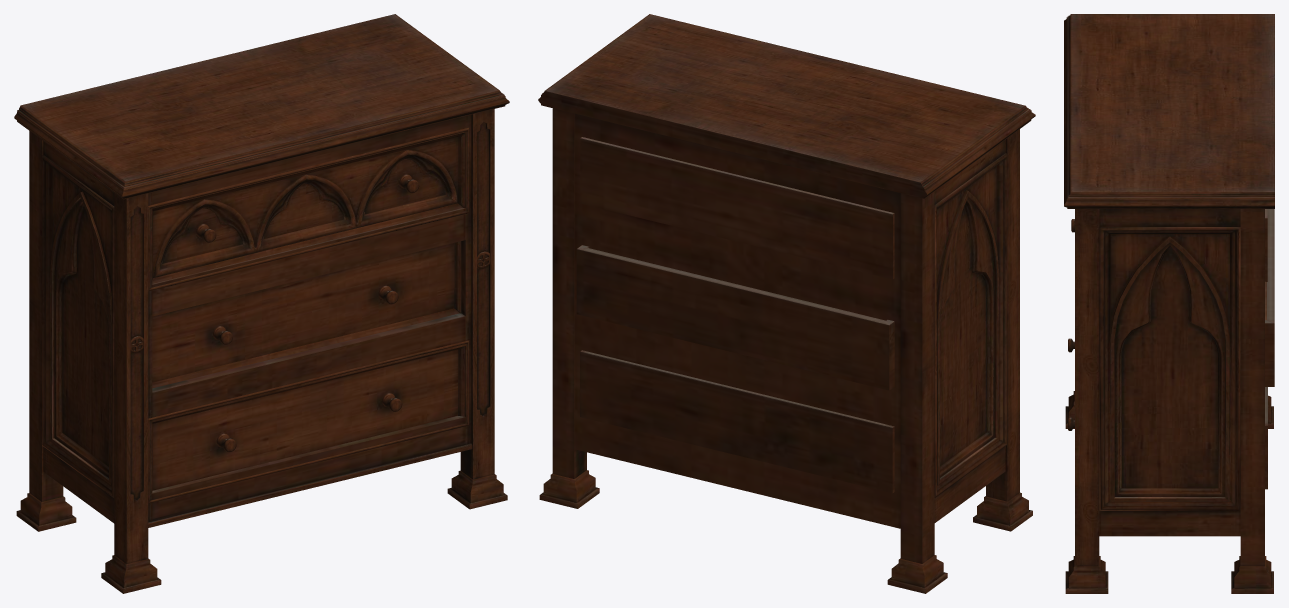
Rendered from GothicCommode_01.gltf.
3 renders of one model, left to right at view 1: azimuth 30°, elevation 25°; view 2: azimuth 150°, elevation 25°; view 3: azimuth 270°, elevation 25°, orthographic. The views are drawn at different scales.
Parts seen in each view (by area): view 1: GothicCommode_01, GothicCommode_01_door01, GothicCommode_01_door03, GothicCommode_01_door02; view 2: GothicCommode_01, GothicCommode_01_door02, GothicCommode_01_door03, GothicCommode_01_door01; view 3: GothicCommode_01, GothicCommode_01_door02, GothicCommode_01_door03.
Part boxes in pixels (x1=…): GothicCommode_01: x1=14, y1=14, x2=509, y2=593; GothicCommode_01_door01: x1=148, y1=127, x2=469, y2=291; GothicCommode_01_door03: x1=148, y1=340, x2=469, y2=503; GothicCommode_01_door02: x1=152, y1=241, x2=461, y2=388; GothicCommode_01: x1=538, y1=14, x2=1035, y2=593; GothicCommode_01_door02: x1=576, y1=245, x2=894, y2=390; GothicCommode_01_door03: x1=580, y1=350, x2=894, y2=493; GothicCommode_01_door01: x1=580, y1=137, x2=894, y2=279; GothicCommode_01: x1=1064, y1=14, x2=1274, y2=593; GothicCommode_01_door02: x1=1265, y1=209, x2=1274, y2=386; GothicCommode_01_door03: x1=1068, y1=338, x2=1267, y2=489.
Size of the model in its own units: 1.2 by 1.21 by 0.5807.
1 material, 1 textured.
